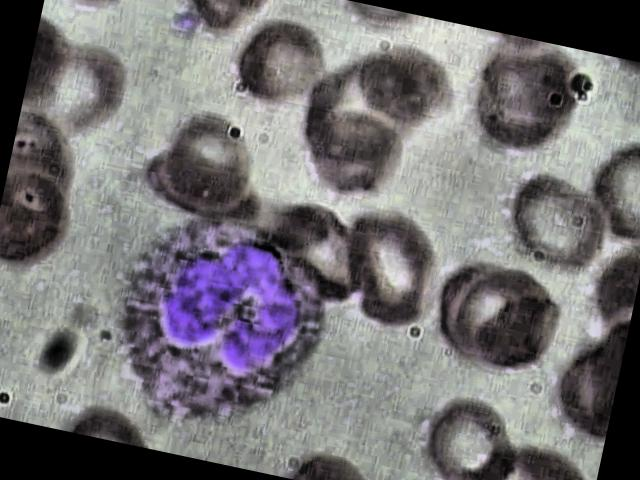Platelets: (157, 2, 208, 40)
RBC: (327, 208, 450, 338), (141, 102, 264, 232), (16, 33, 139, 162), (261, 180, 384, 309), (291, 98, 414, 227), (337, 26, 458, 144), (496, 168, 614, 279), (218, 11, 336, 122), (464, 56, 582, 167), (462, 274, 568, 394), (397, 388, 528, 480), (0, 169, 87, 292)
WBC: (92, 202, 354, 452)
